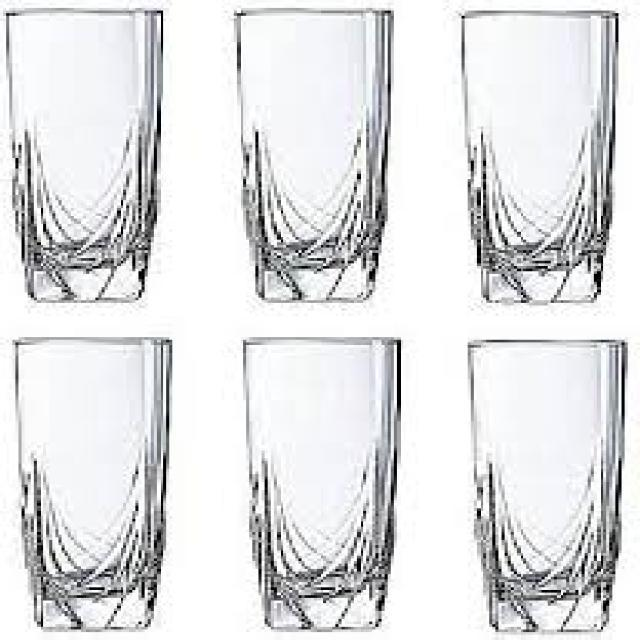Glass: (435, 330, 640, 640), (0, 0, 182, 323), (0, 321, 186, 635), (448, 11, 632, 318), (224, 0, 406, 303), (234, 327, 410, 631)
